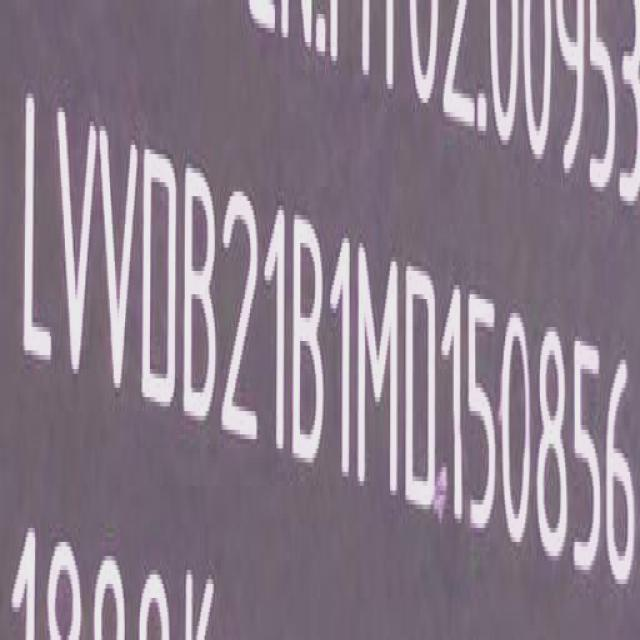0: (502, 309, 534, 552)
1: (263, 200, 288, 461), (328, 226, 352, 483), (441, 277, 463, 529)
2: (222, 188, 258, 447)
5: (466, 286, 498, 540), (572, 335, 603, 579)
6: (606, 345, 640, 590)
8: (537, 324, 571, 566)
B: (184, 165, 220, 428), (293, 209, 326, 469)
D: (140, 143, 179, 414), (405, 259, 438, 515)
L: (19, 89, 54, 378)
M: (356, 241, 402, 503)
V: (53, 102, 98, 387), (98, 123, 141, 403)
